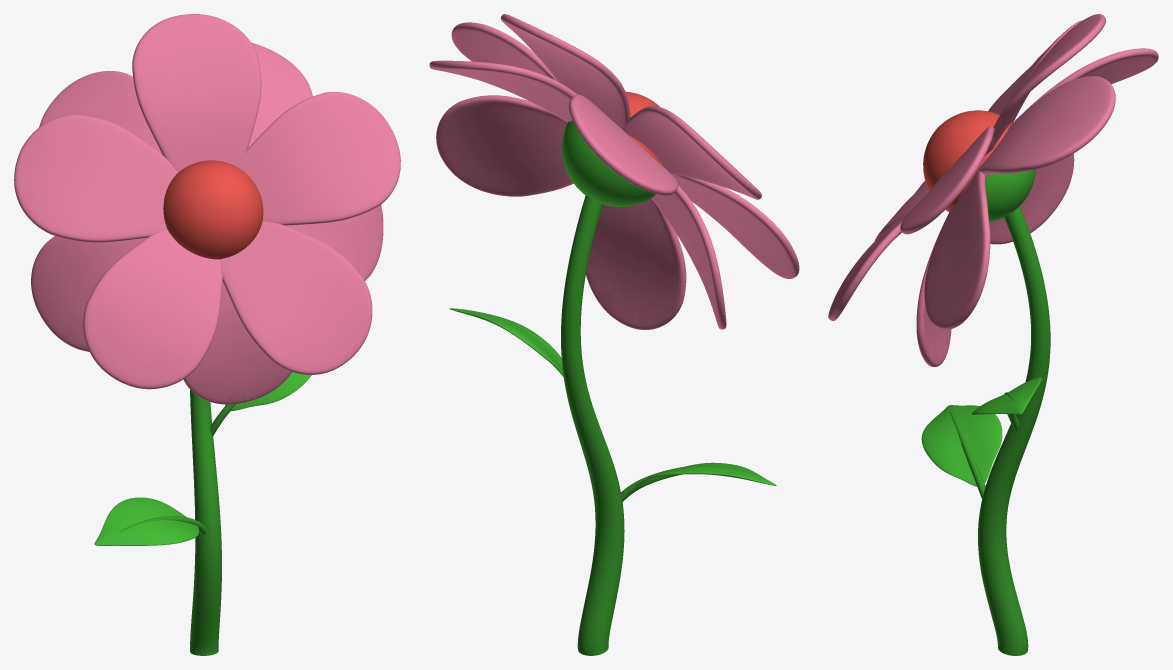
The model's file is my-object-meshopt.glb.
The picture shows the model from 3 angles, left to right: view 1: azimuth 30°, elevation 25°; view 2: azimuth 150°, elevation 25°; view 3: azimuth 270°, elevation 25°; orthographic projection. The views are drawn at different scales.
Visible parts, largest first — view 1: Plane, Sphere, NurbsPath.010, Sphere.001; view 2: Plane, NurbsPath.010, Sphere.001, Sphere; view 3: Plane, NurbsPath.010, Sphere.001, Sphere.
Part boxes in pixels (x1,y1,x2,y2): Plane: [14, 14, 400, 404]; Sphere: [163, 160, 263, 259]; NurbsPath.010: [118, 389, 235, 655]; Sphere.001: [94, 372, 311, 545]; Plane: [429, 14, 799, 329]; NurbsPath.010: [479, 195, 749, 655]; Sphere.001: [449, 121, 776, 487]; Sphere: [572, 91, 663, 166]; Plane: [828, 14, 1158, 366]; NurbsPath.010: [950, 206, 1050, 655]; Sphere.001: [921, 169, 1041, 486]; Sphere: [923, 110, 1012, 211].
Bounding box in the file's own units: 1.86 × 3.27 × 1.54.
